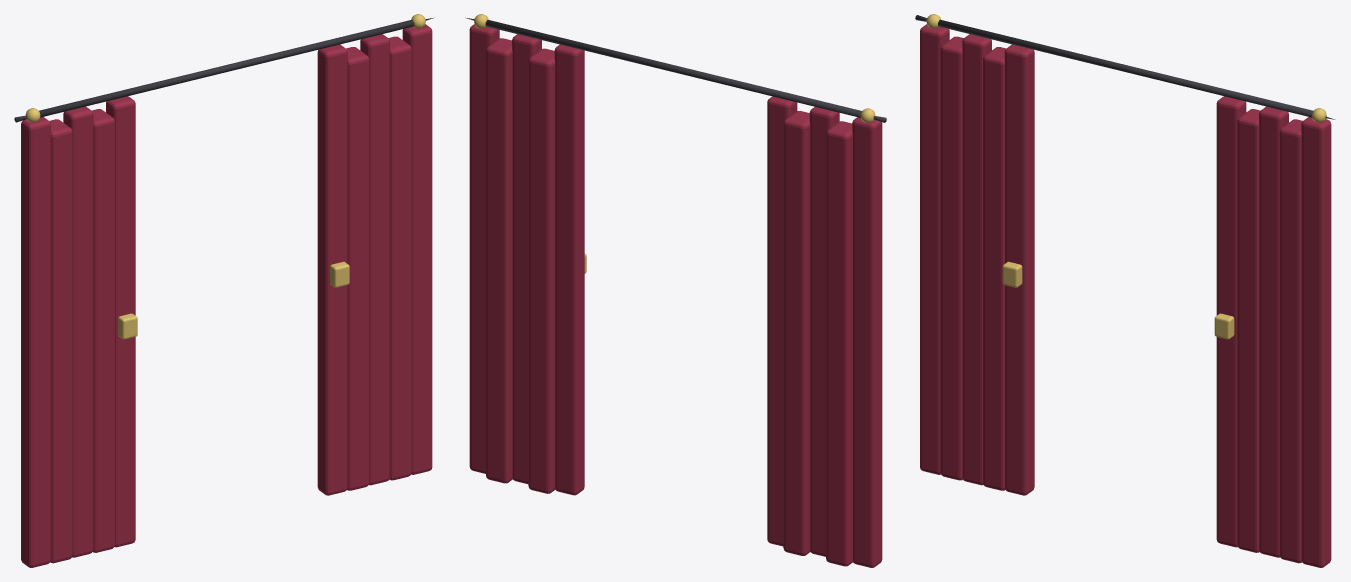
Rendered from drapes.glb.
3 views of the same model, side by side, from view 1: azimuth 30°, elevation 25°; view 2: azimuth 150°, elevation 25°; view 3: azimuth 330°, elevation 25° (orthographic).
Parts seen in each view (by area): view 1: GD_drapes; view 2: GD_drapes; view 3: GD_drapes.
Boxes of the visible parts, x1,y1,x2,y2 form: GD_drapes: (14, 14, 434, 567); GD_drapes: (465, 14, 886, 567); GD_drapes: (915, 14, 1335, 567).
Size of the model in its own units: 2.18 by 2.26 by 0.18.
